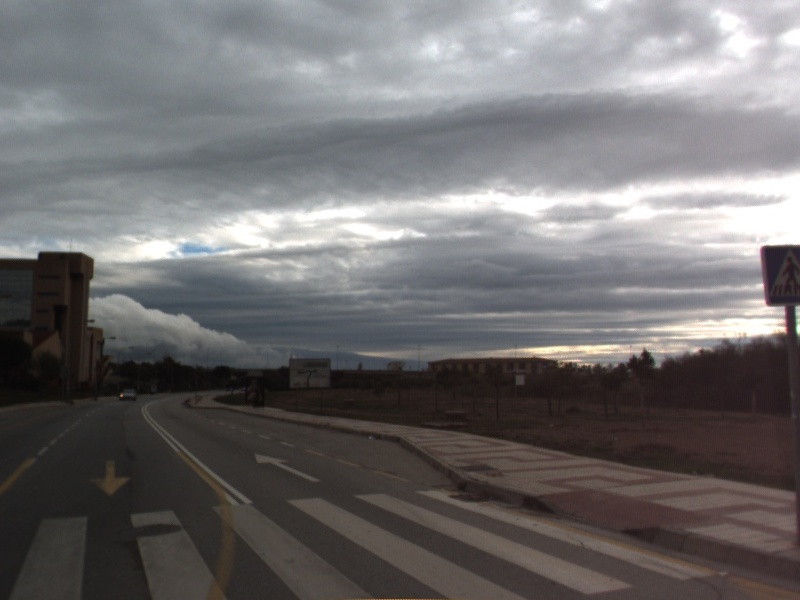STRAIGHT: (252, 451, 323, 483)
